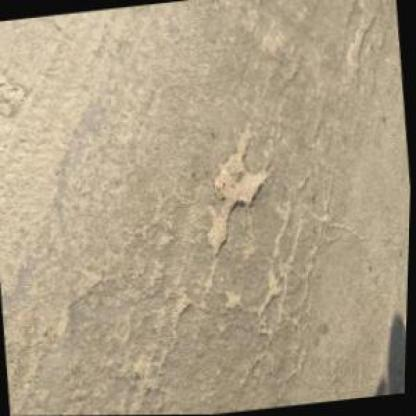pothole: (194, 124, 279, 255)
